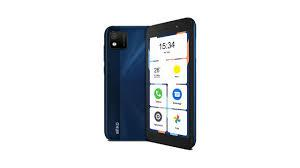Smartphone: (145, 16, 190, 144), (106, 28, 145, 139)
